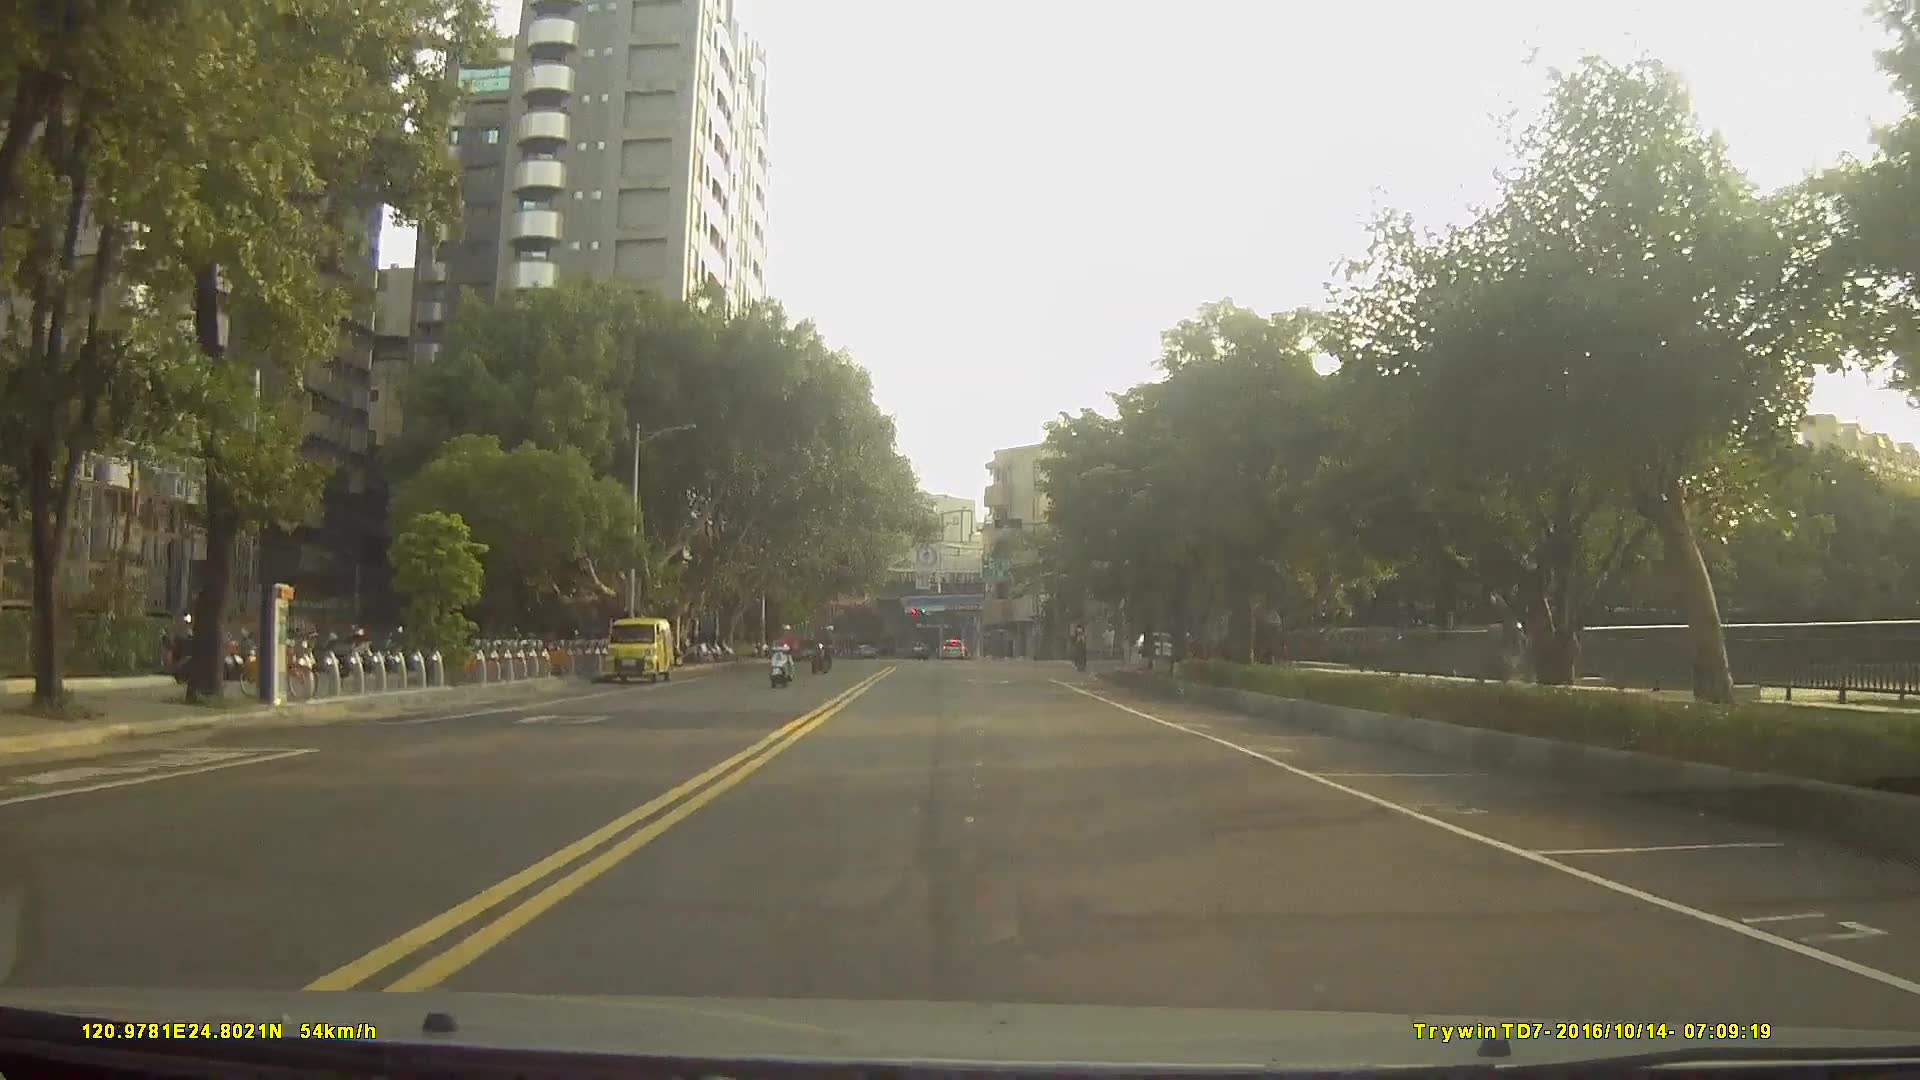pedestrian: (1099, 621, 1119, 661)
rider: (767, 615, 803, 680), (810, 620, 839, 674), (1070, 622, 1091, 669)
vehicle: (935, 635, 965, 661)
